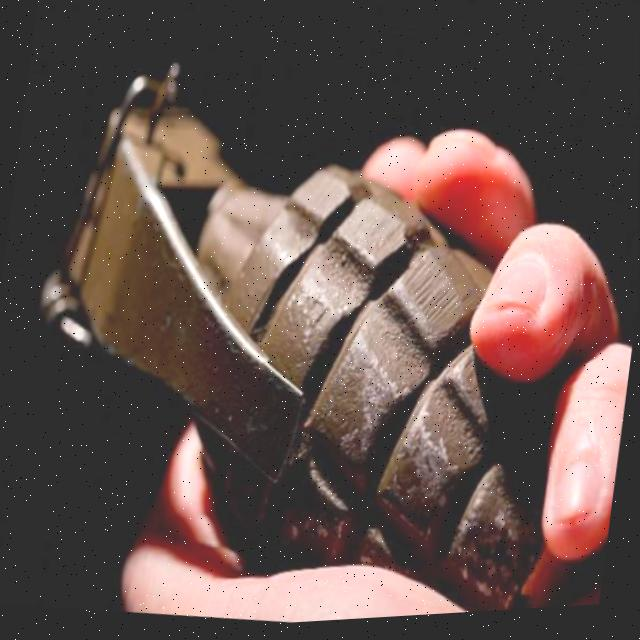grenade: (2, 21, 601, 640)
